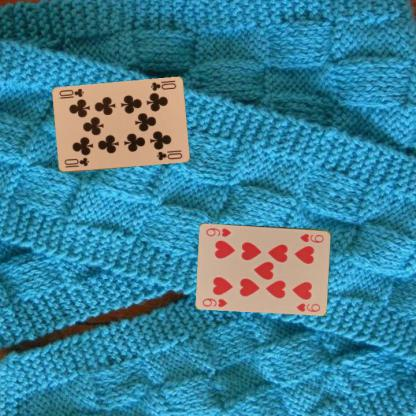10c: (62, 155, 90, 169), (148, 80, 177, 92)
9h: (200, 295, 229, 309), (298, 231, 325, 244)
